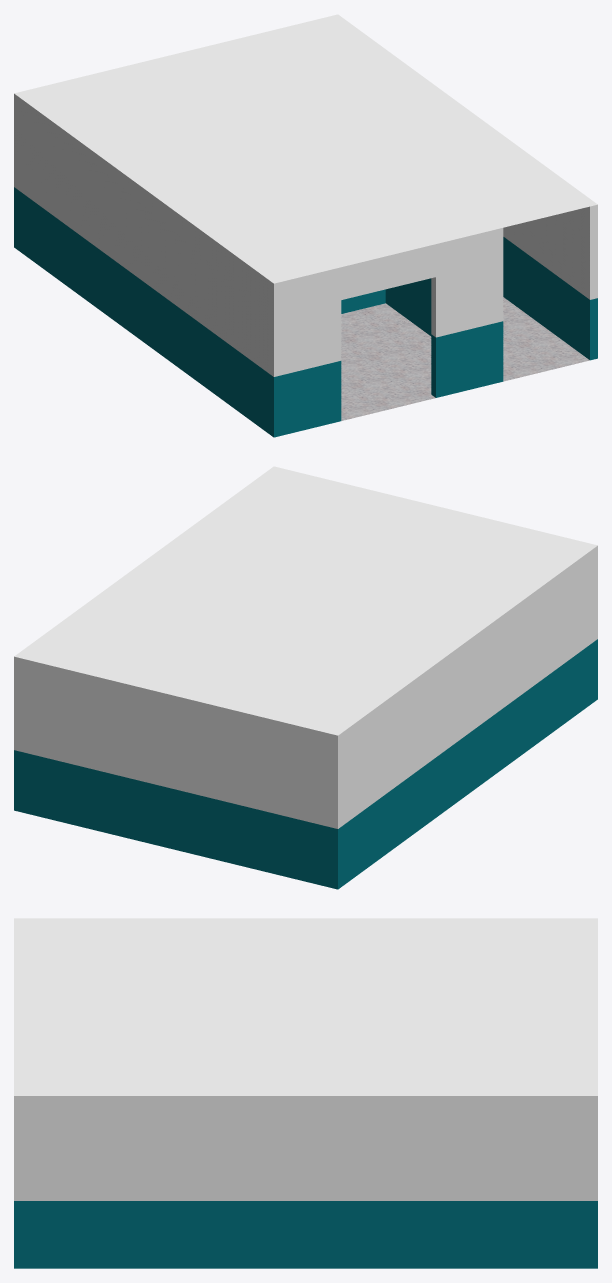
Rendered from ARQ-48.fbx.
3 views of the same model, one above another, from view 1: azimuth 30°, elevation 25°; view 2: azimuth 150°, elevation 25°; view 3: azimuth 270°, elevation 25° (orthographic). The views are drawn at different scales.
Parts seen in each view (by area): view 1: Techo, Pared, Piso; view 2: Pared, Techo; view 3: Techo, Pared.
Part boxes in pixels (box(x1,y1,x2,y2)): Techo: box(14, 14, 597, 283); Pared: box(14, 93, 597, 437); Piso: box(341, 297, 589, 420); Pared: box(14, 545, 597, 889); Techo: box(14, 466, 597, 735); Techo: box(14, 918, 597, 1095); Pared: box(14, 1096, 597, 1268).
Size of the model in its own units: 617 by 280 by 857.
Materials: 4 (1 with a texture image).
